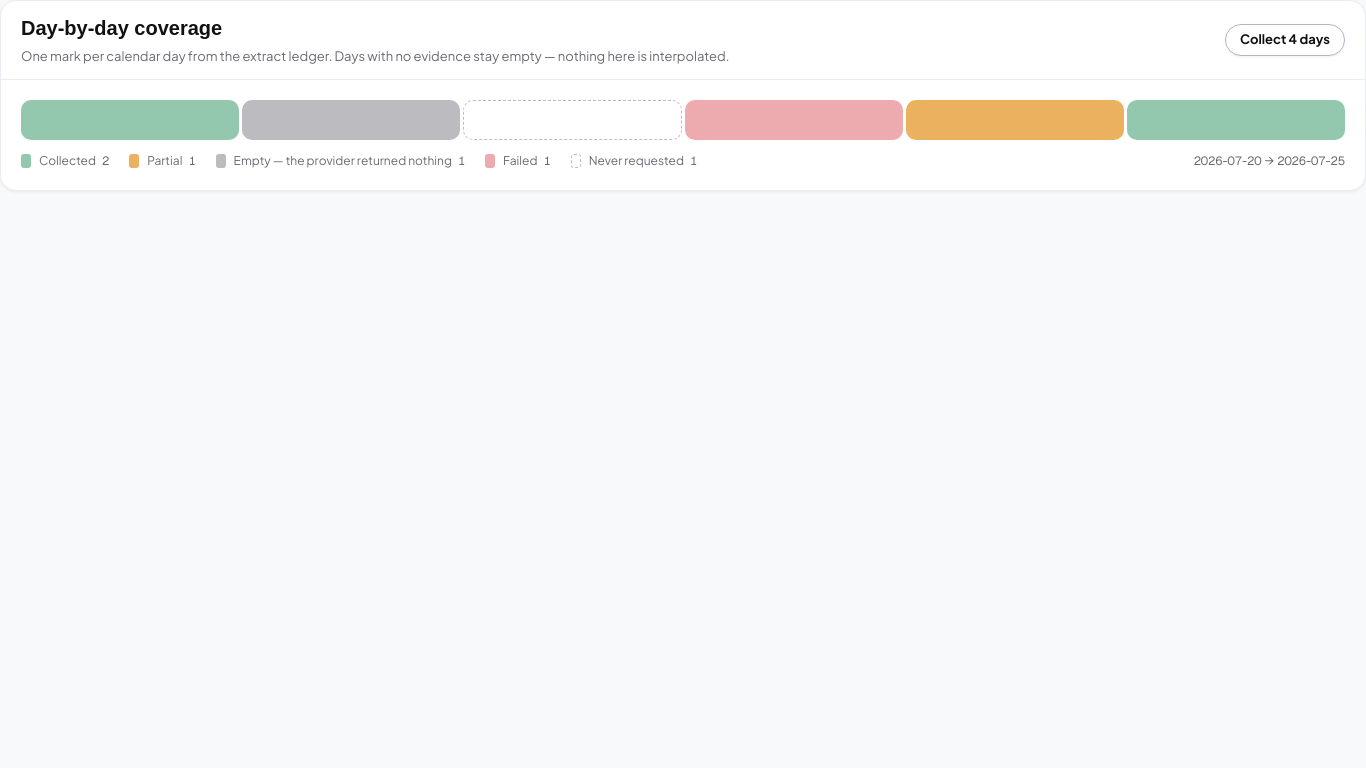
Test: CoverageStrip › confirms before it spends, at the same door and with the same words
Expected: the element with test id "coverage-strip" is shown, [0, 0, 1365, 190]
Click the button "Collect 4 days". click: (1285,40)
box: [1225, 24, 1345, 56]
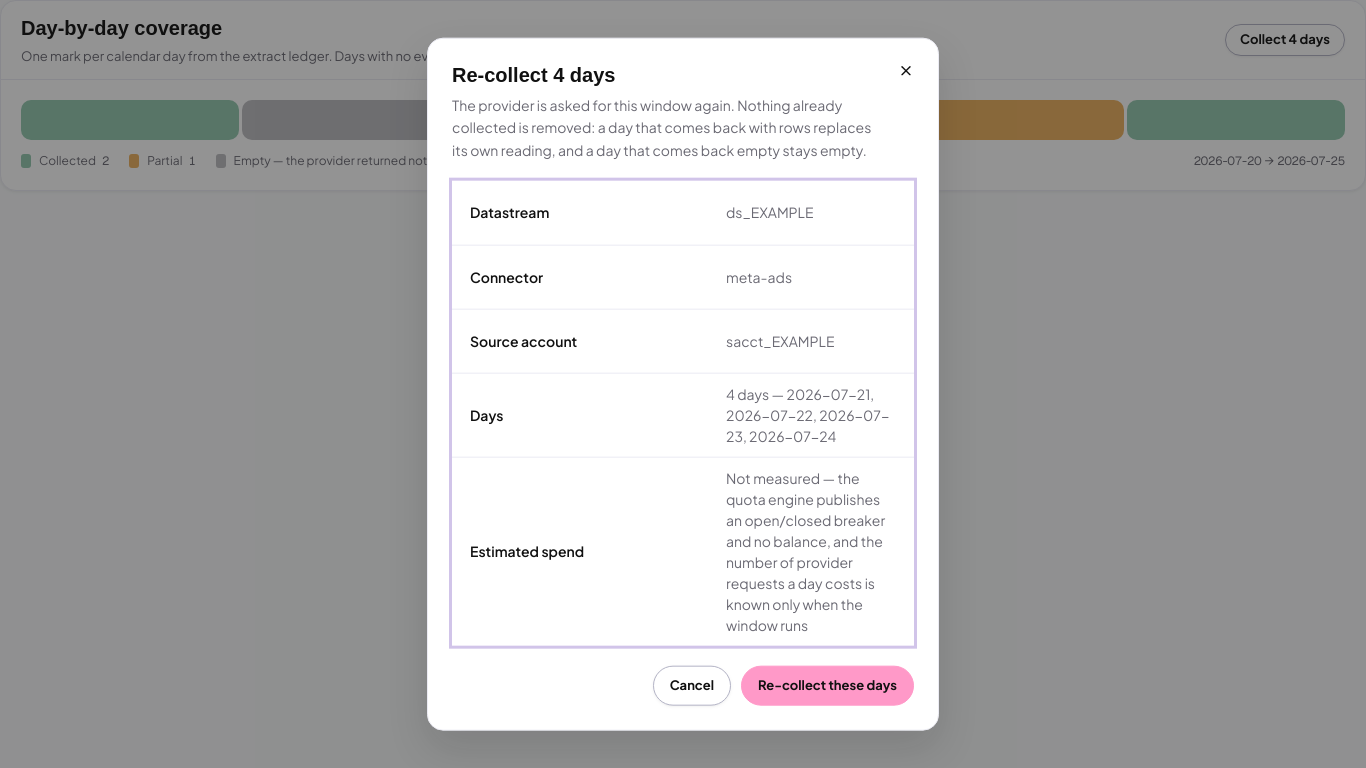
Expected: the dialog with test id "repull-confirm" shows "ds_EXAMPLE", [726, 203, 814, 221]
Expected: the dialog with test id "repull-confirm" shows "meta-ads", [726, 267, 792, 285]
Expected: the dialog with test id "repull-confirm" shows "sacct_EXAMPLE", [726, 331, 834, 349]
Click the button with test id "repull-cancel". click: (692,685)
box: [653, 665, 731, 705]
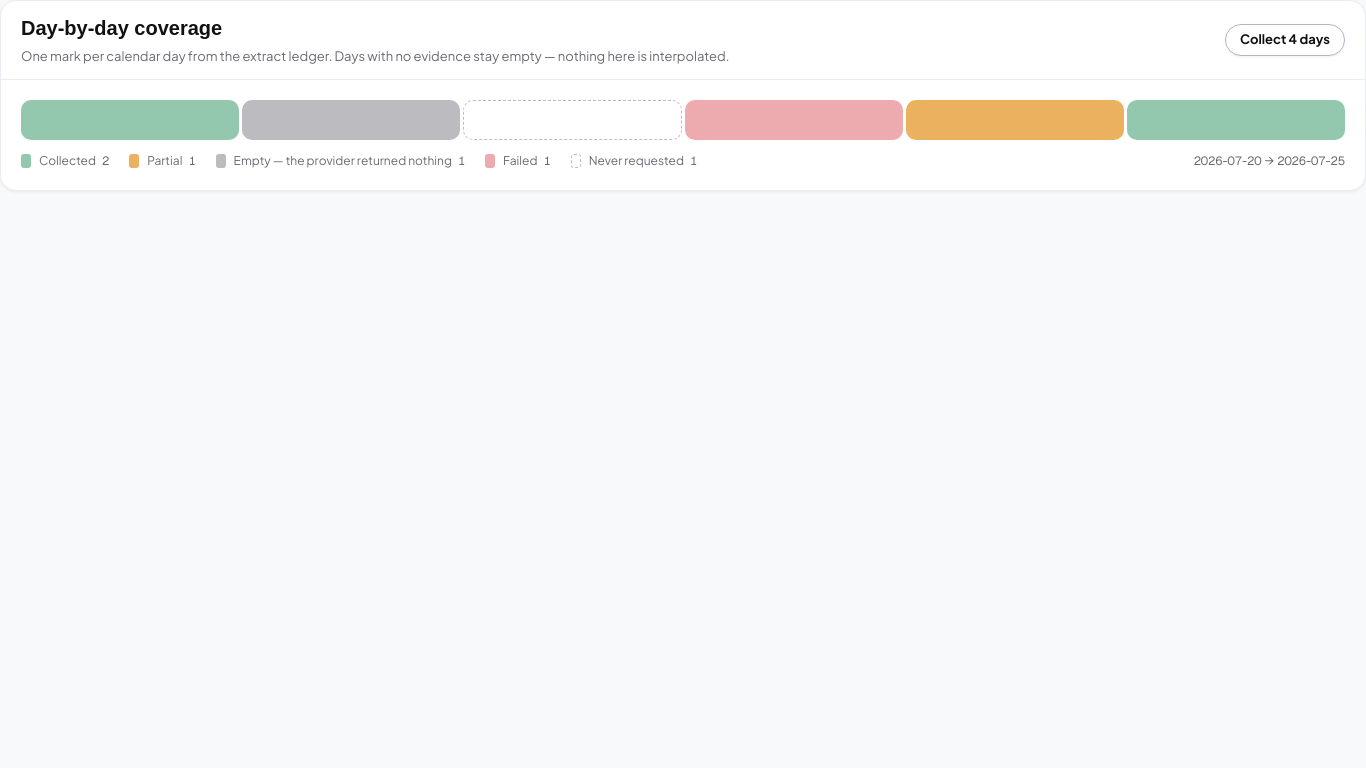
Expected: the dialog with test id "repull-confirm" is gone
